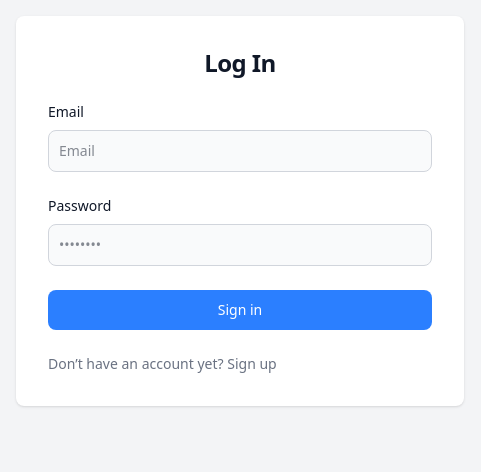
Test case: LoginPage › shows validation errors when fields are empty
Click the button with test id "login-button": coordinates (240, 310) [48,290,432,330]
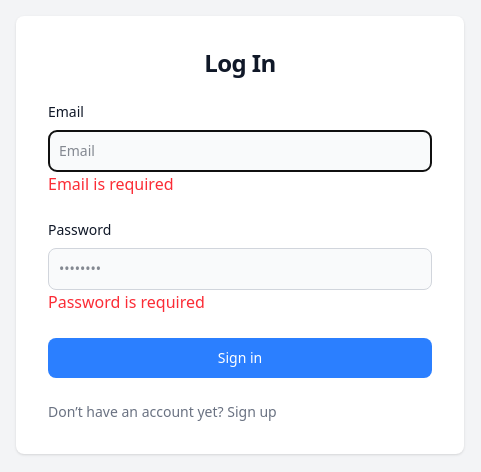
expect the text "Email is required" is shown: met, box [48,173,174,195]
expect the text "Password is required" is shown: met, box [48,291,205,313]
